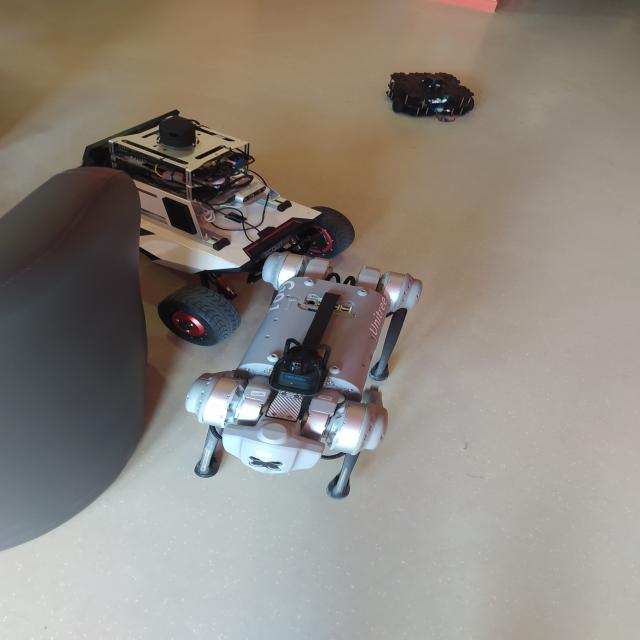unitree-go1-robot: (180, 235, 430, 508)
